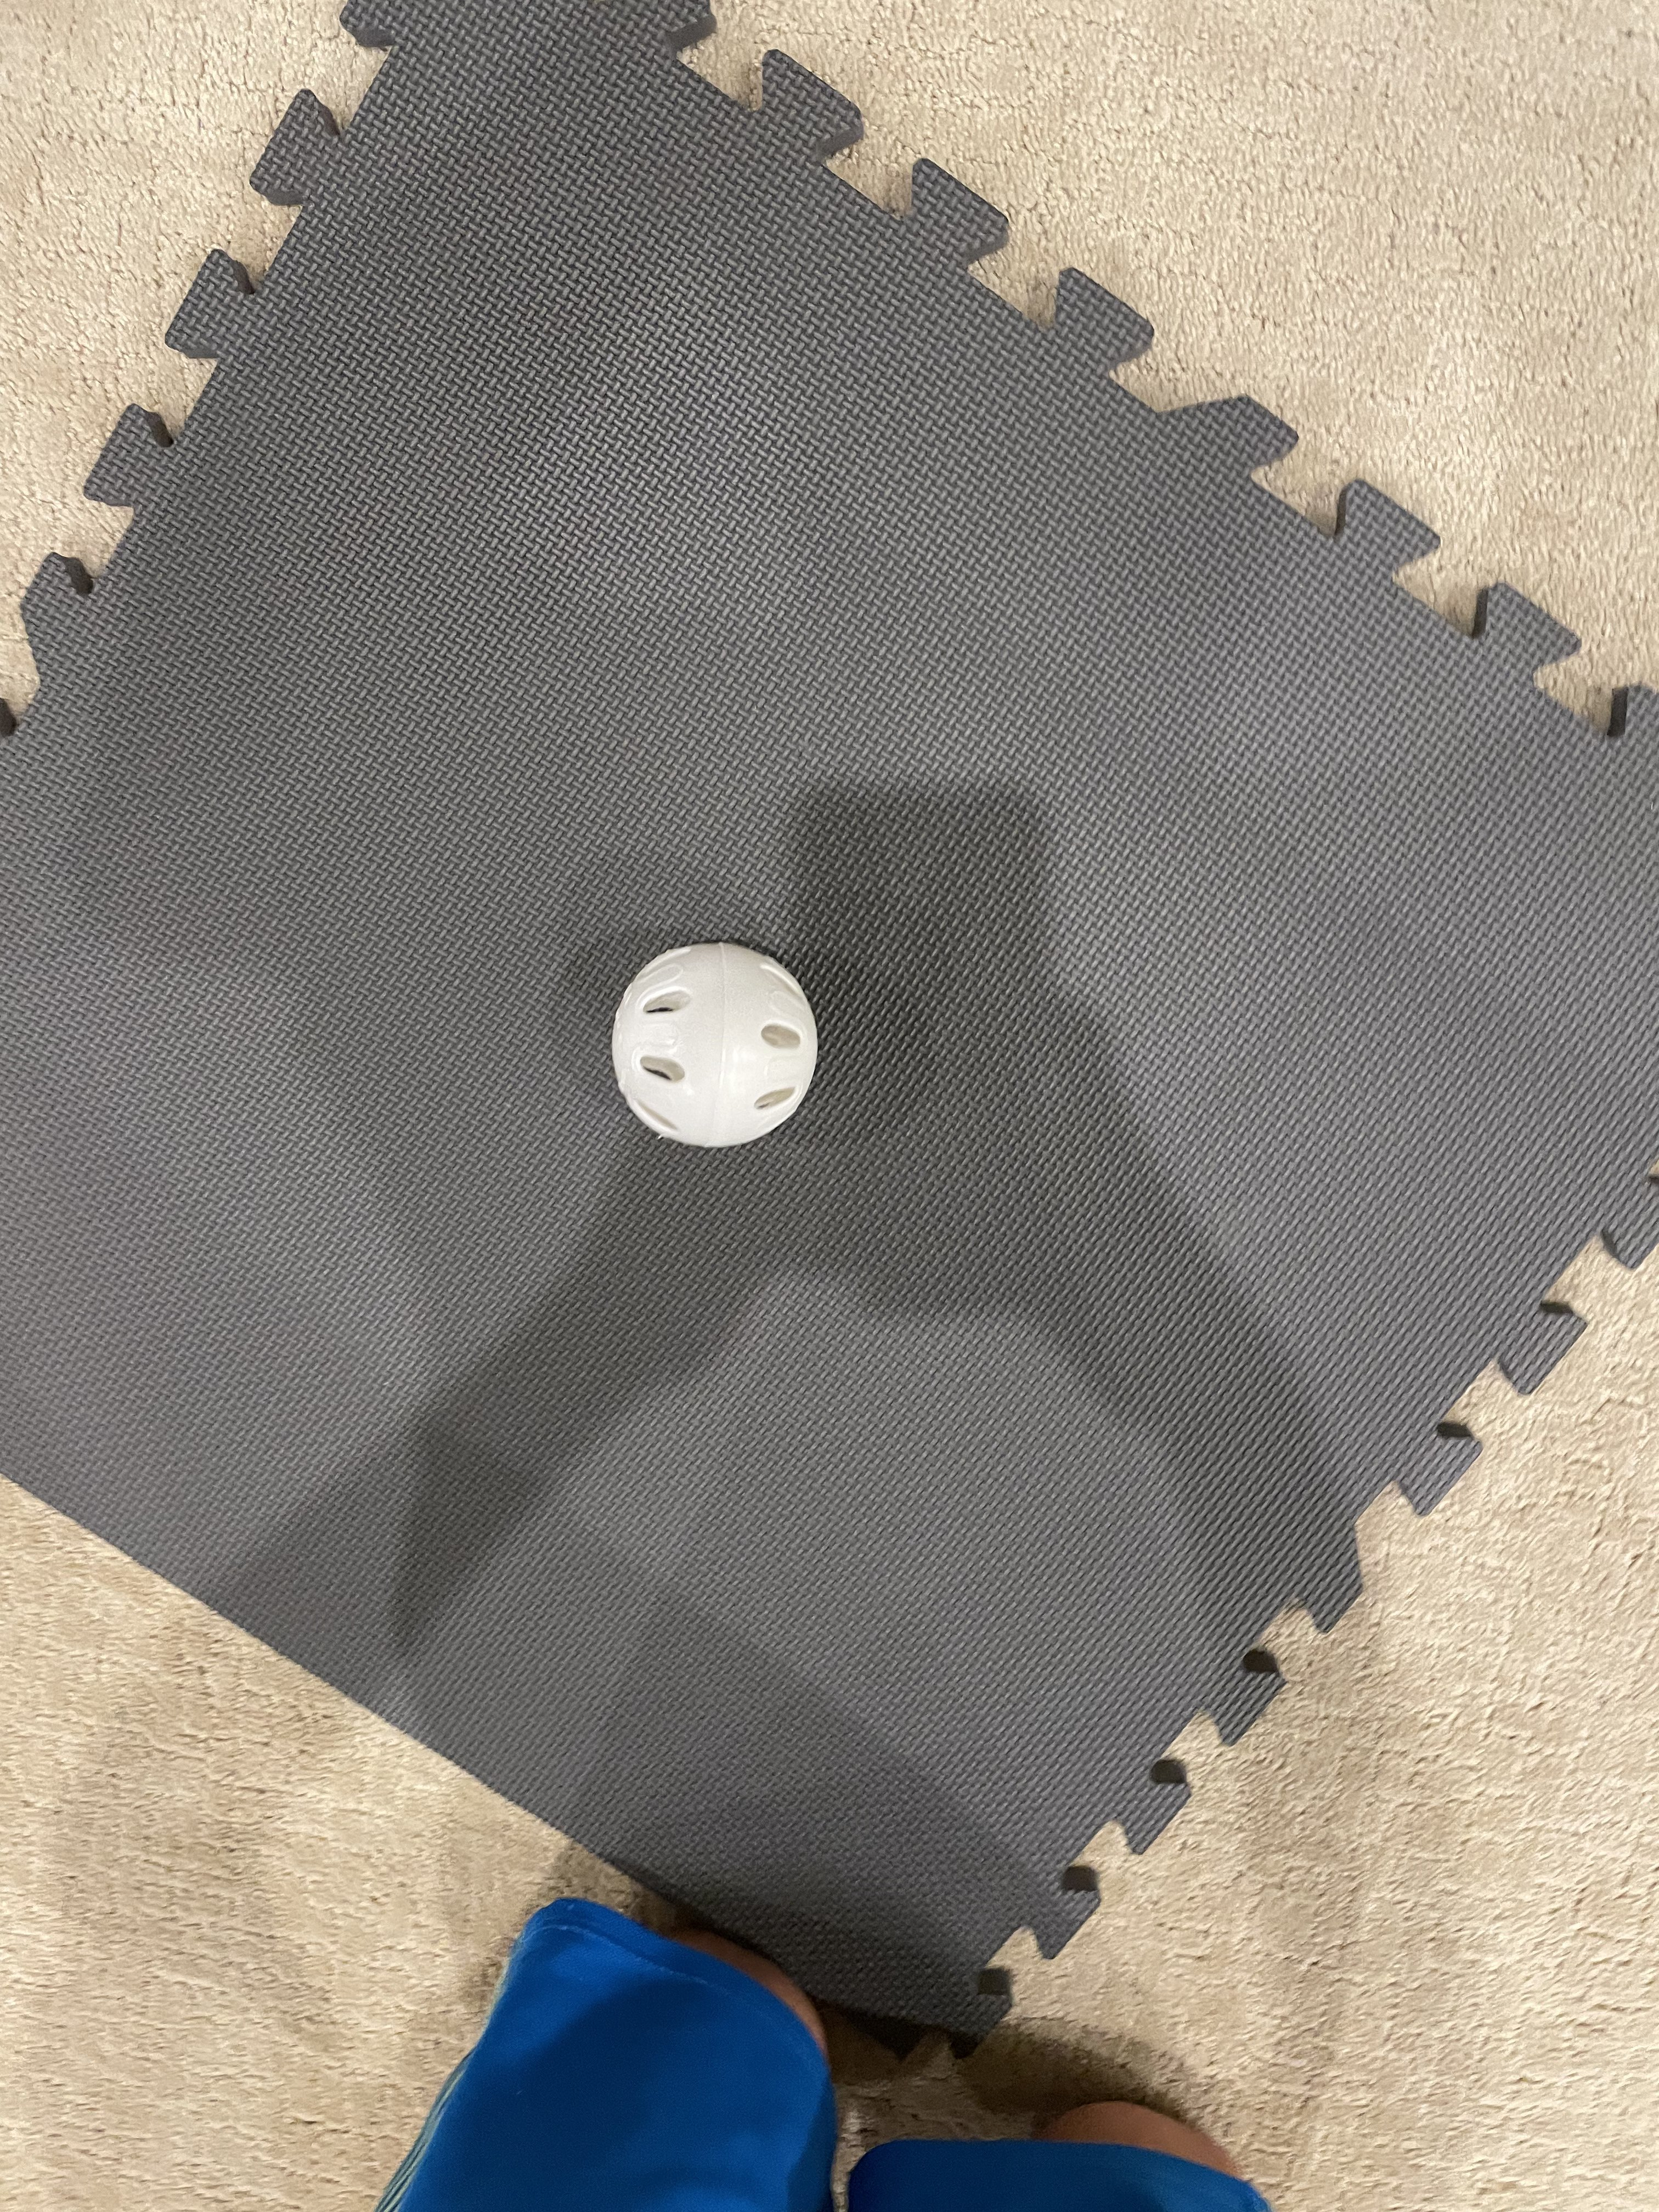ball: (575, 914, 831, 1170)
